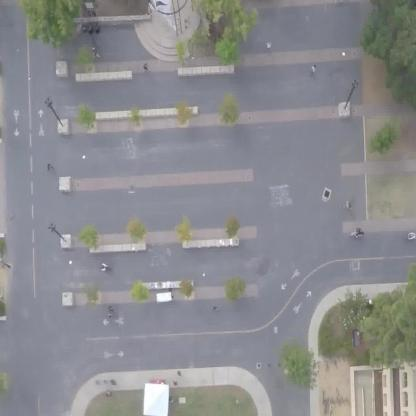Bicyclist: (306, 61, 324, 78), (340, 196, 356, 215), (96, 259, 112, 274), (352, 225, 366, 241), (86, 43, 100, 58), (206, 304, 221, 318), (42, 162, 56, 176), (141, 58, 153, 74), (102, 304, 115, 314), (407, 229, 415, 245), (104, 314, 115, 320)
Pedestrian: (263, 37, 277, 54), (171, 377, 180, 391), (104, 388, 115, 399), (107, 375, 118, 386), (102, 377, 111, 387), (174, 369, 182, 379), (95, 378, 100, 389)
